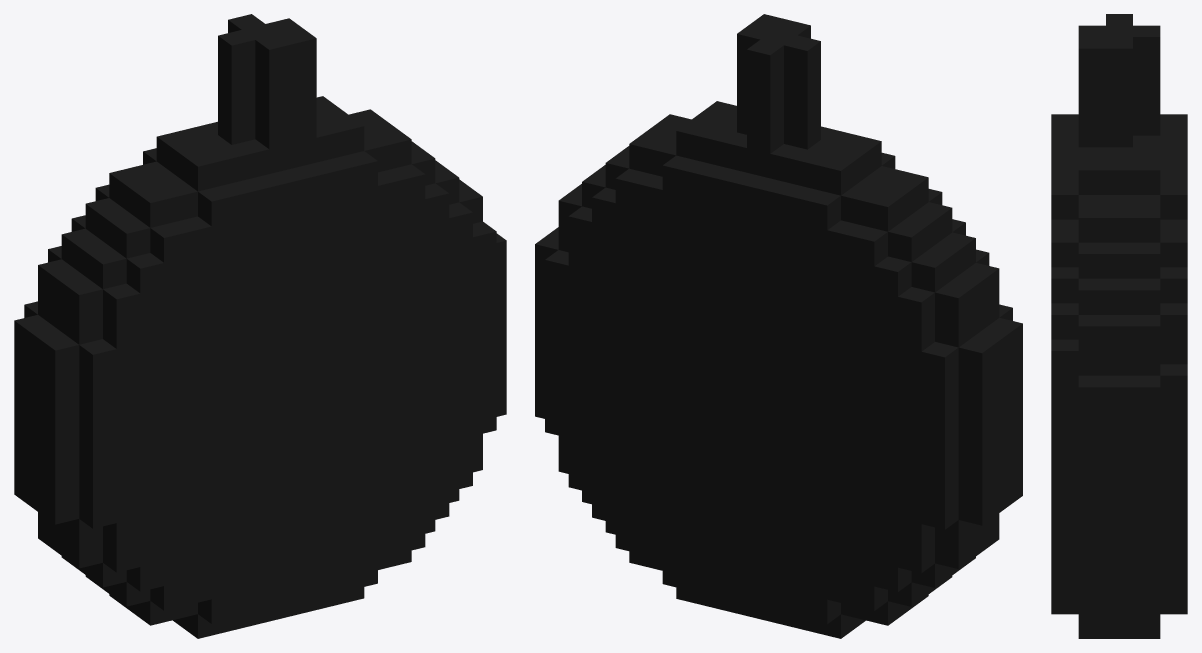
Rendered from ThompsonMullet.obj.
The picture shows the model from 3 angles, left to right: view 1: azimuth 30°, elevation 25°; view 2: azimuth 150°, elevation 25°; view 3: azimuth 270°, elevation 25°; orthographic projection.
Visible parts, largest first — view 1: Model; view 2: Model; view 3: Model.
Part boxes in pixels (box(x1,y1,x2,y2)): Model: box(14, 14, 506, 638); Model: box(535, 14, 1022, 638); Model: box(1051, 14, 1187, 638).
Bounding box in the file's own units: 26.43 × 32 × 6.96.
1 material, 1 textured.
